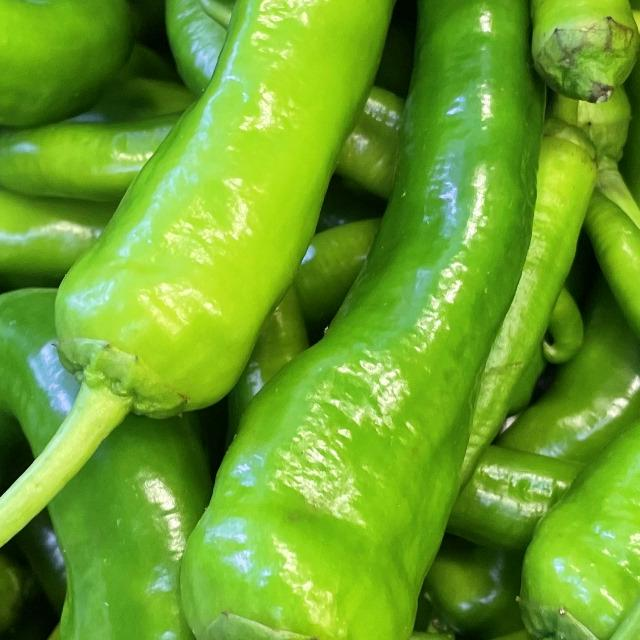chili_pepper: (82, 0, 550, 640)
